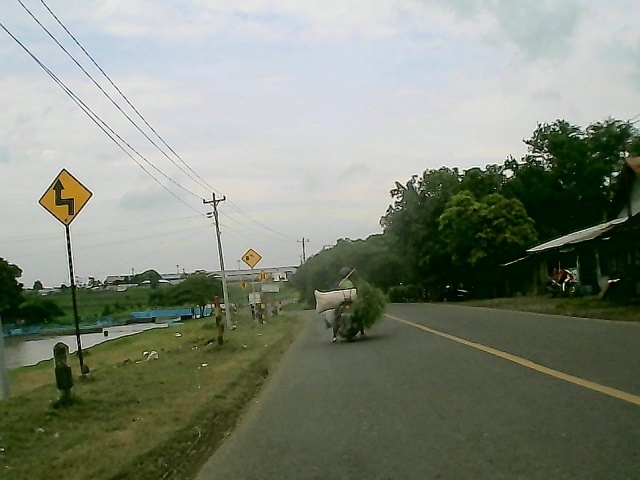Peringatan tepi air: (241, 247, 262, 271)
Tikungan garda pertama kiri: (34, 166, 97, 229)
